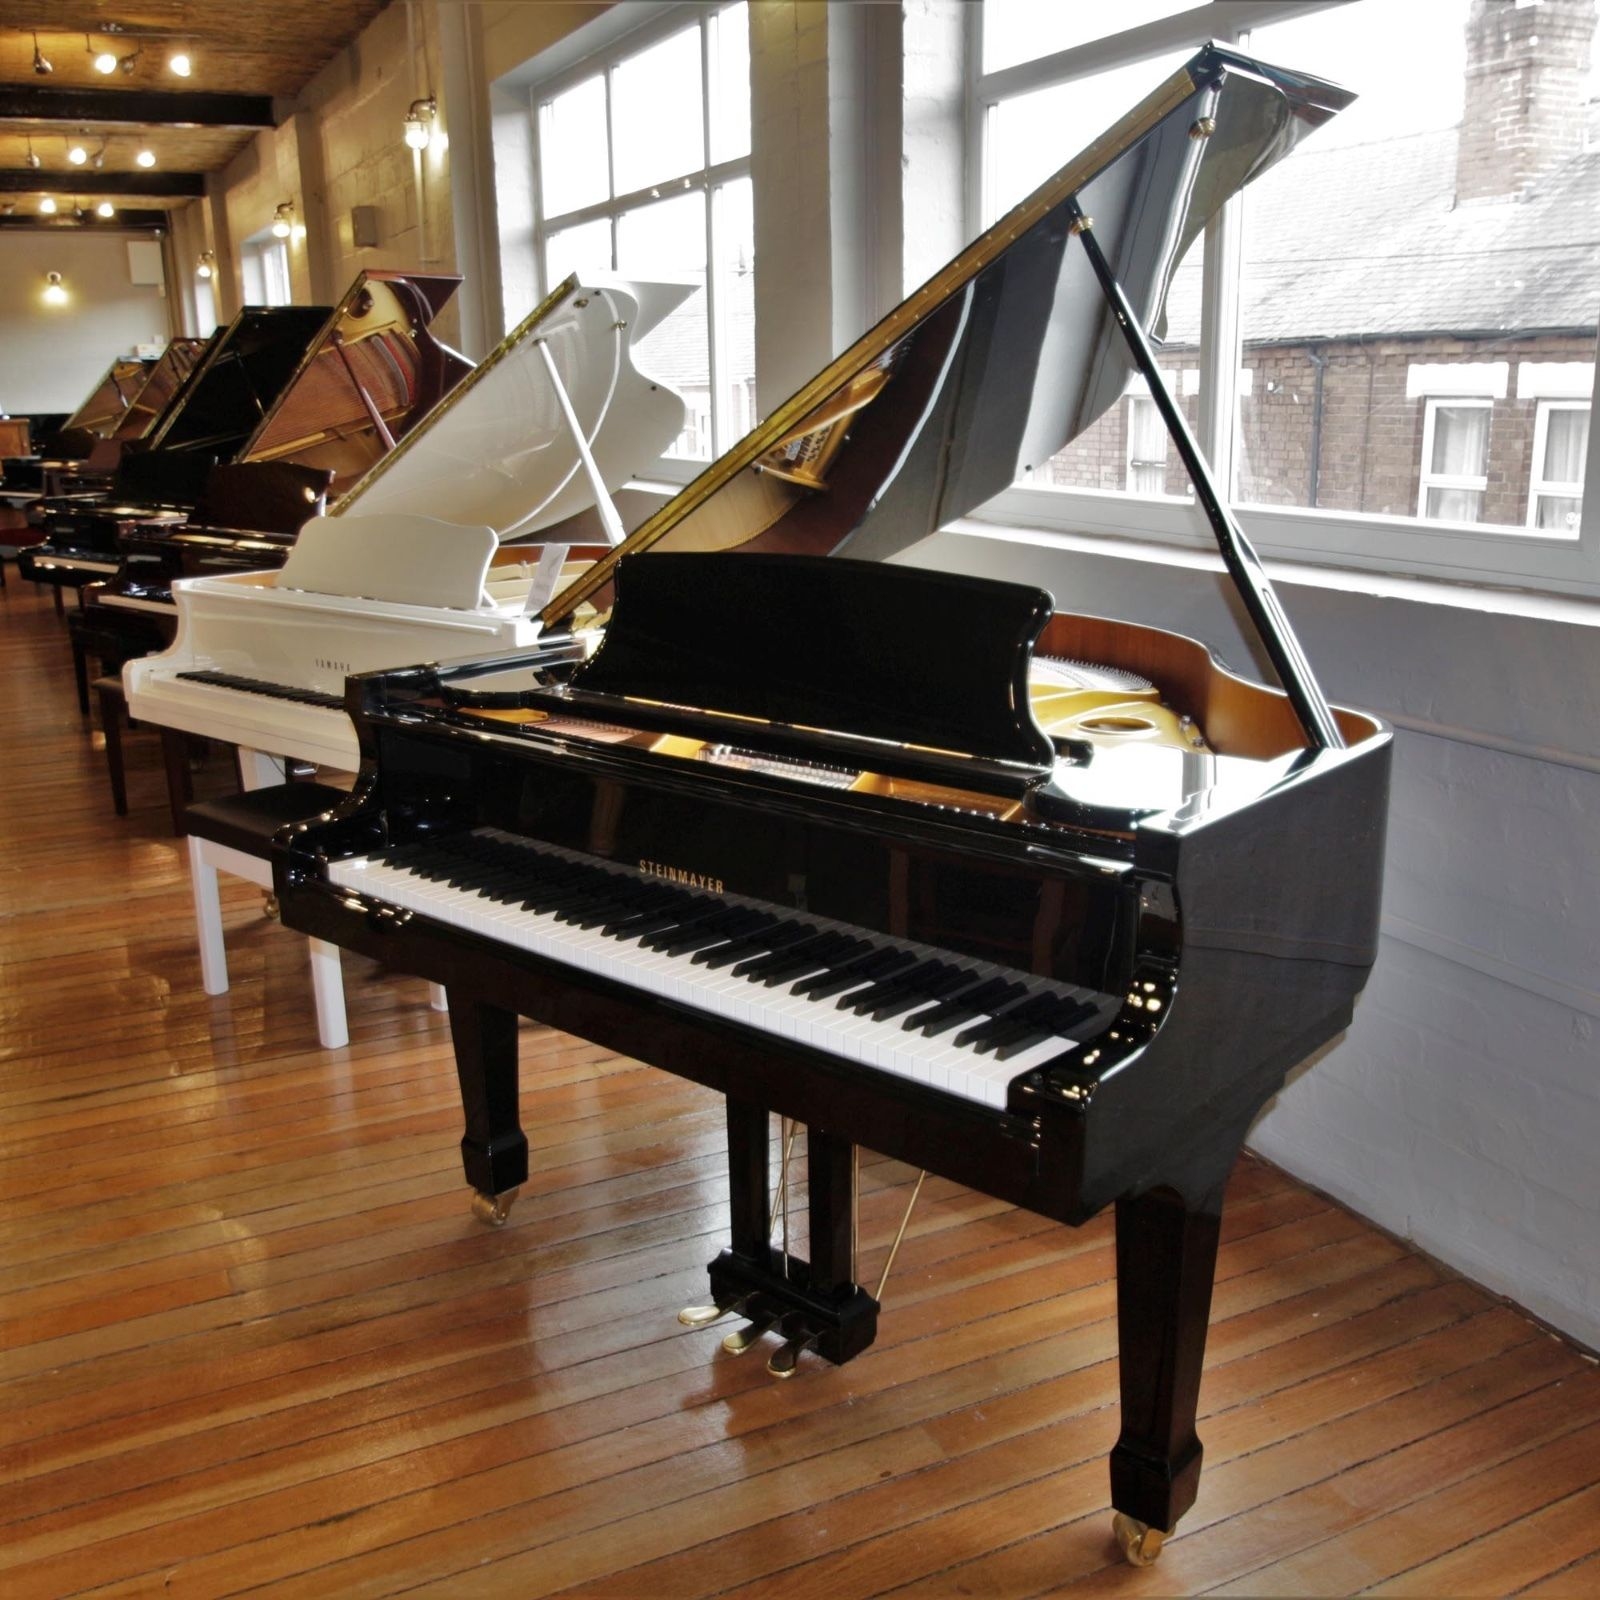GrandPiano: (287, 464, 1390, 1130)
